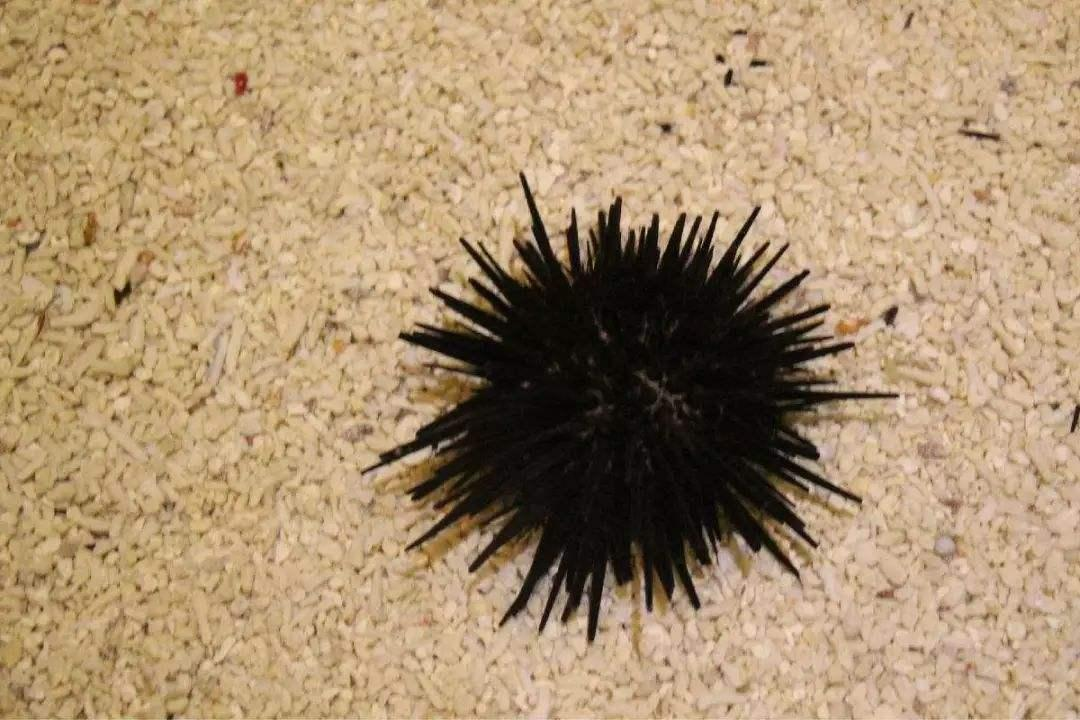urchin: (349, 168, 899, 650)
